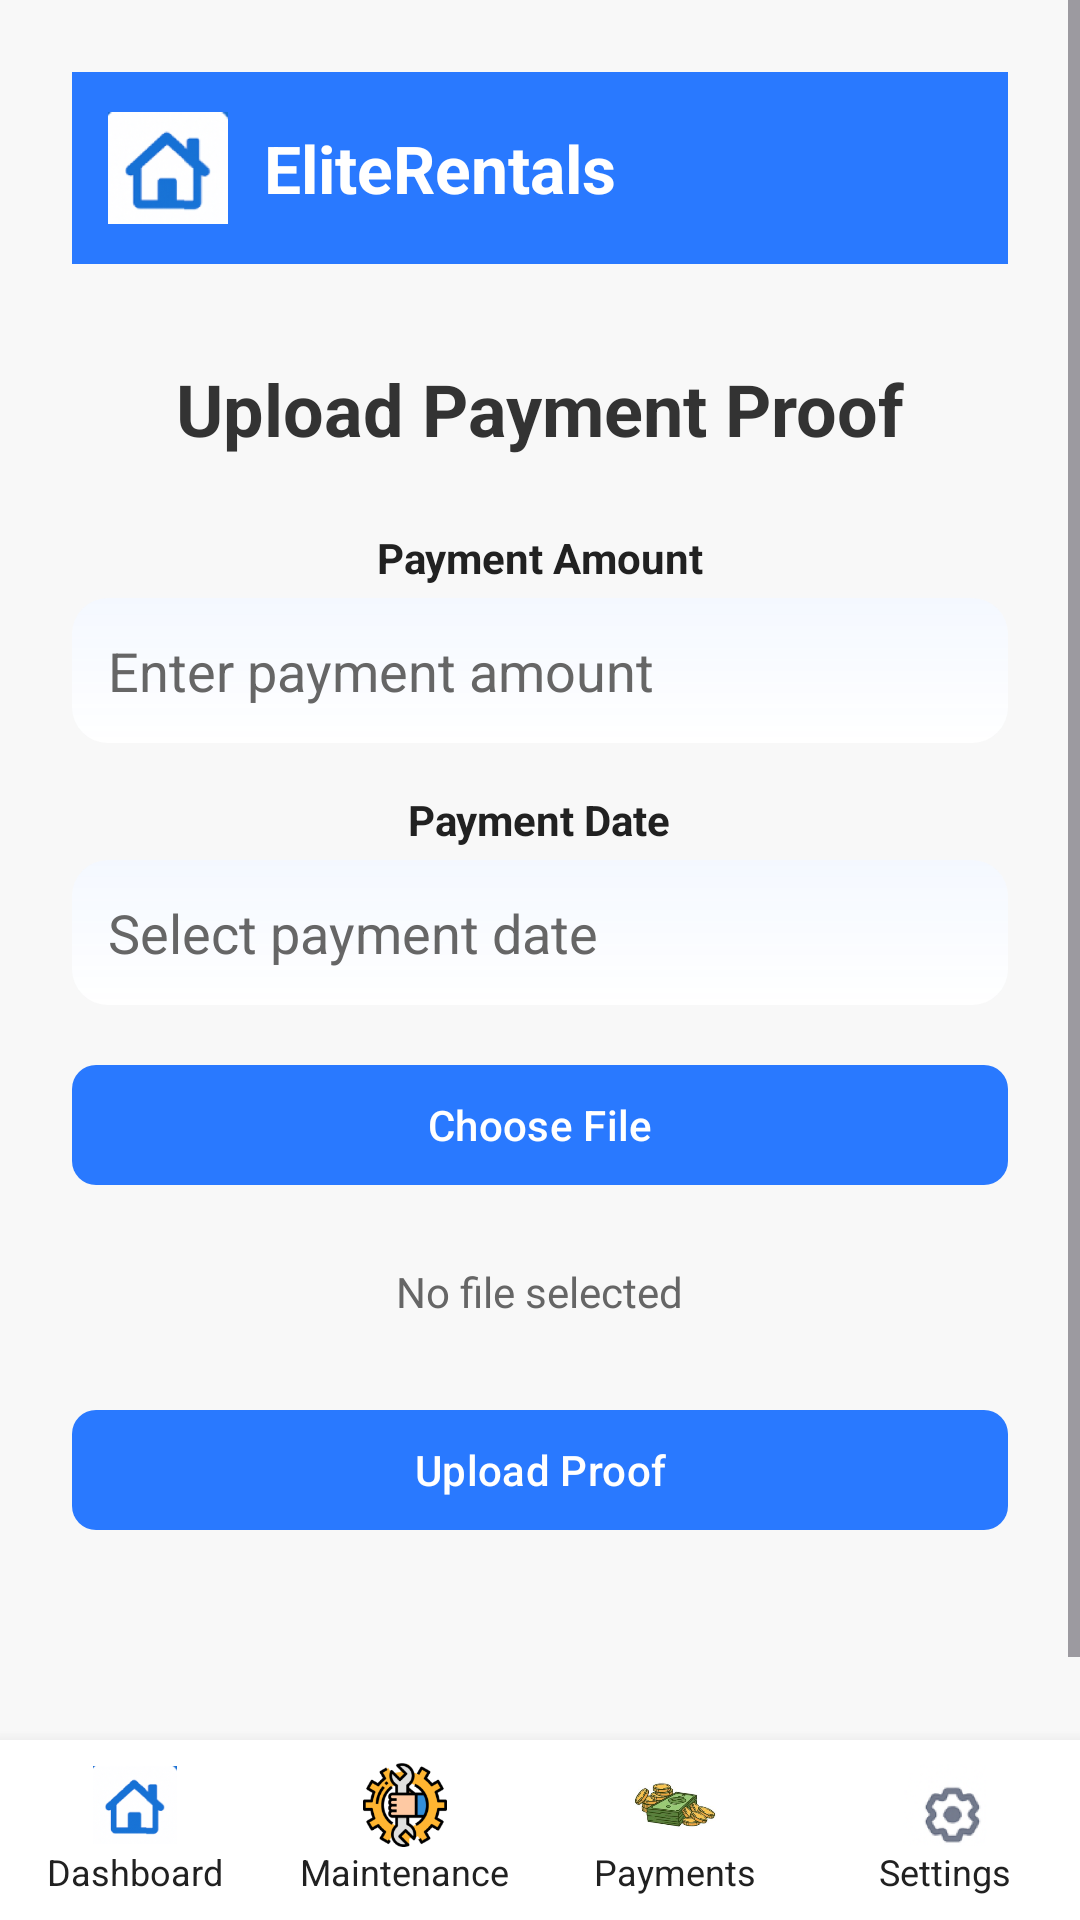

Screen size 1080x1920. Icon name, then its center in pixels as point (x, y):
home: point (168, 168), point (135, 1800)
